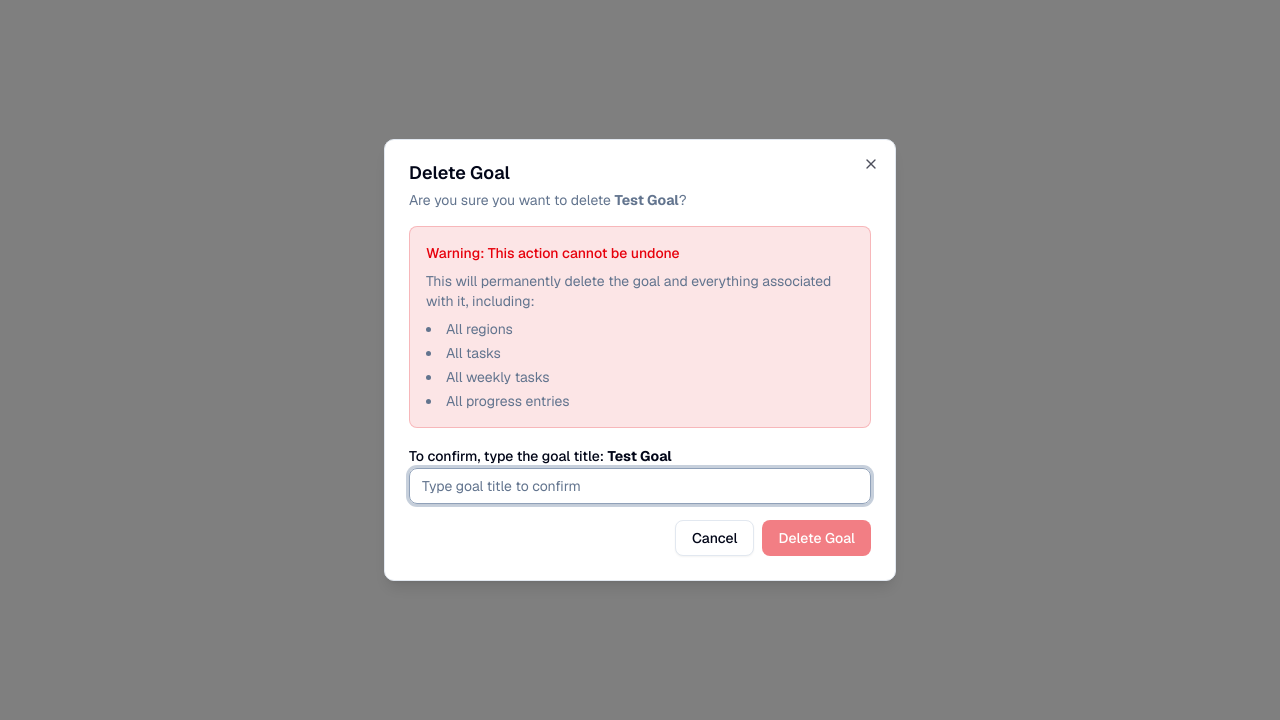
Test: DeleteGoalDialog › shows deleting state during action
The image size is (1280, 720).
Type "Test Goal" into the field with placeholder "Type goal title to confirm".
click(640, 486); type("Test Goal")  # box [409,468,871,504]
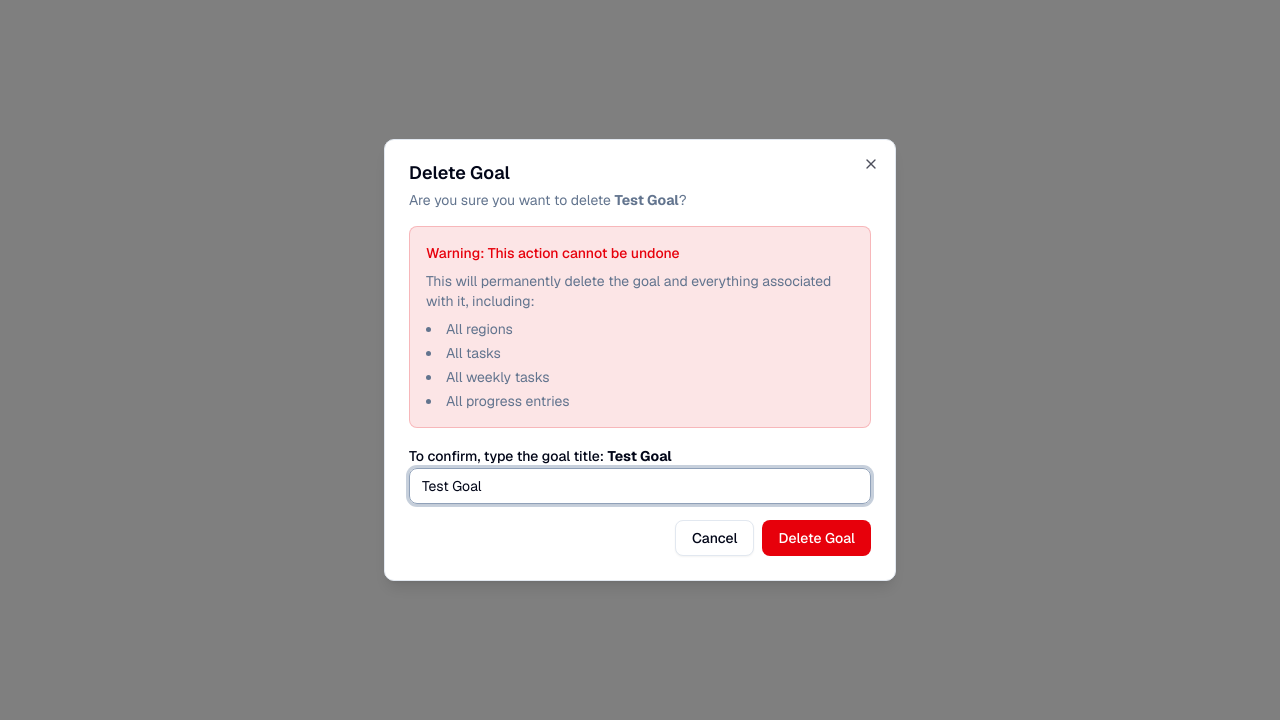
Click the button "Delete Goal".
click(817, 538)  # box [762,520,871,556]
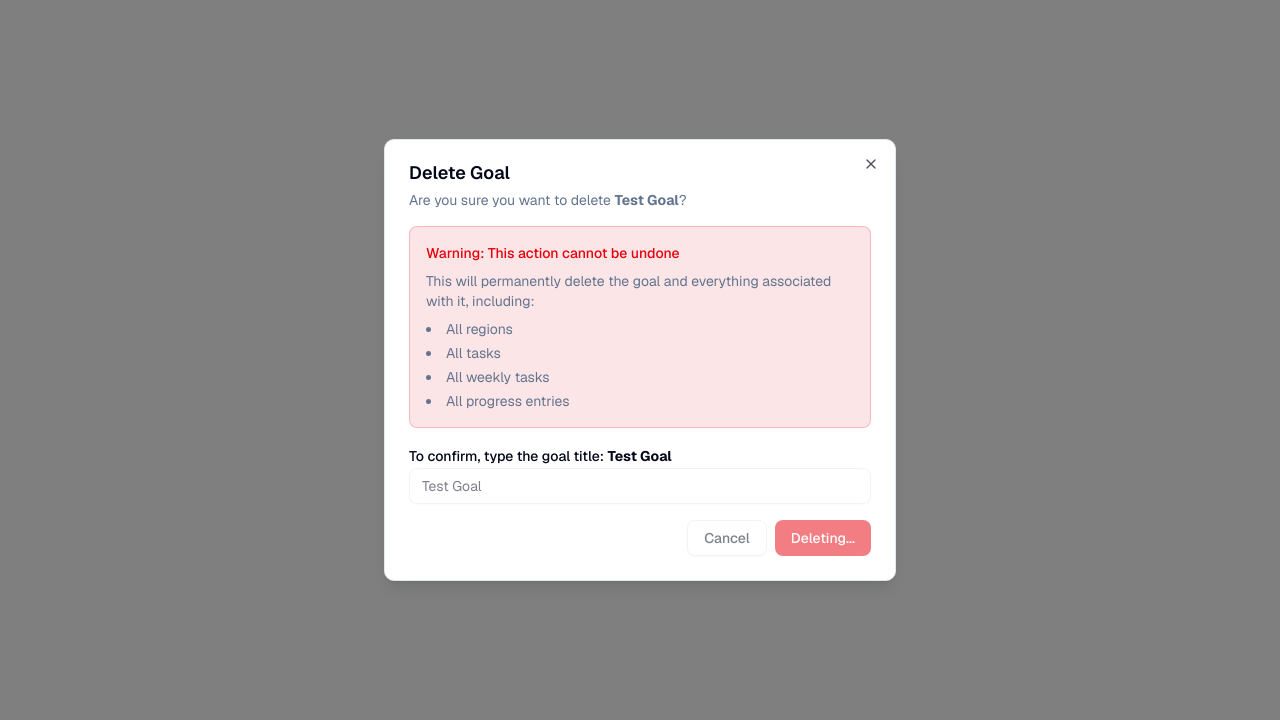
Result: the button "Deleting..." is shown at [775,520,871,556]
